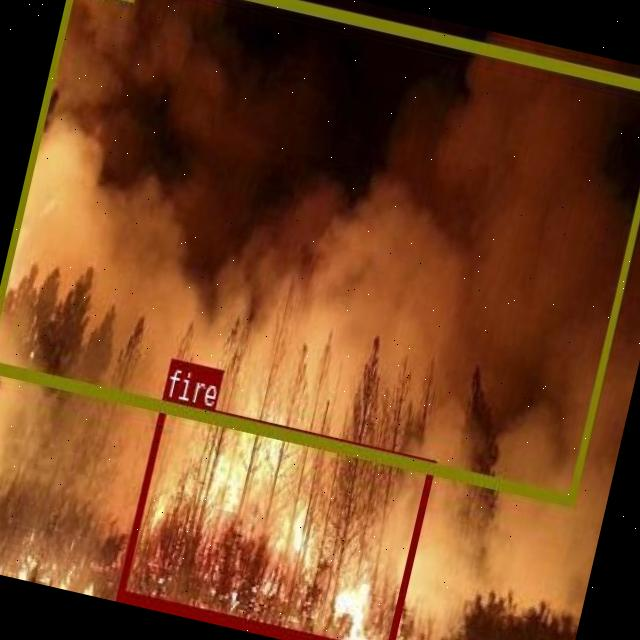fire: (115, 395, 434, 640)
smoke: (0, 0, 640, 504)
